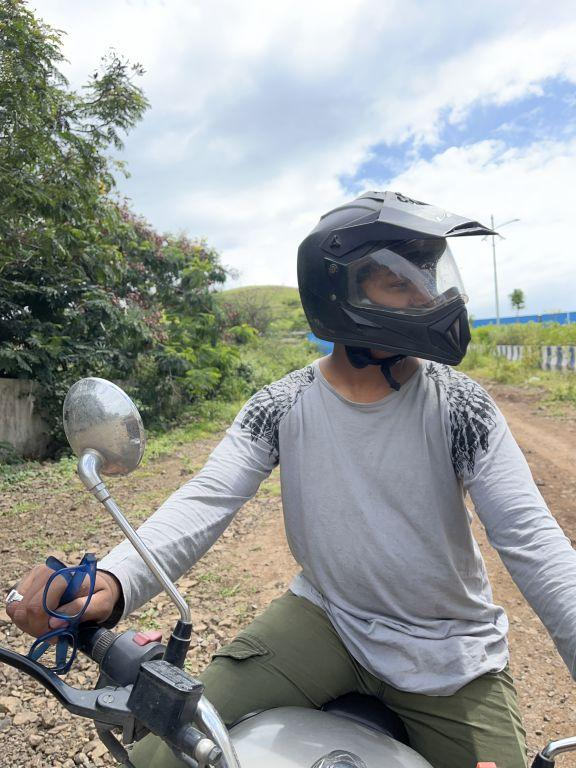helmet: (275, 169, 516, 390)
